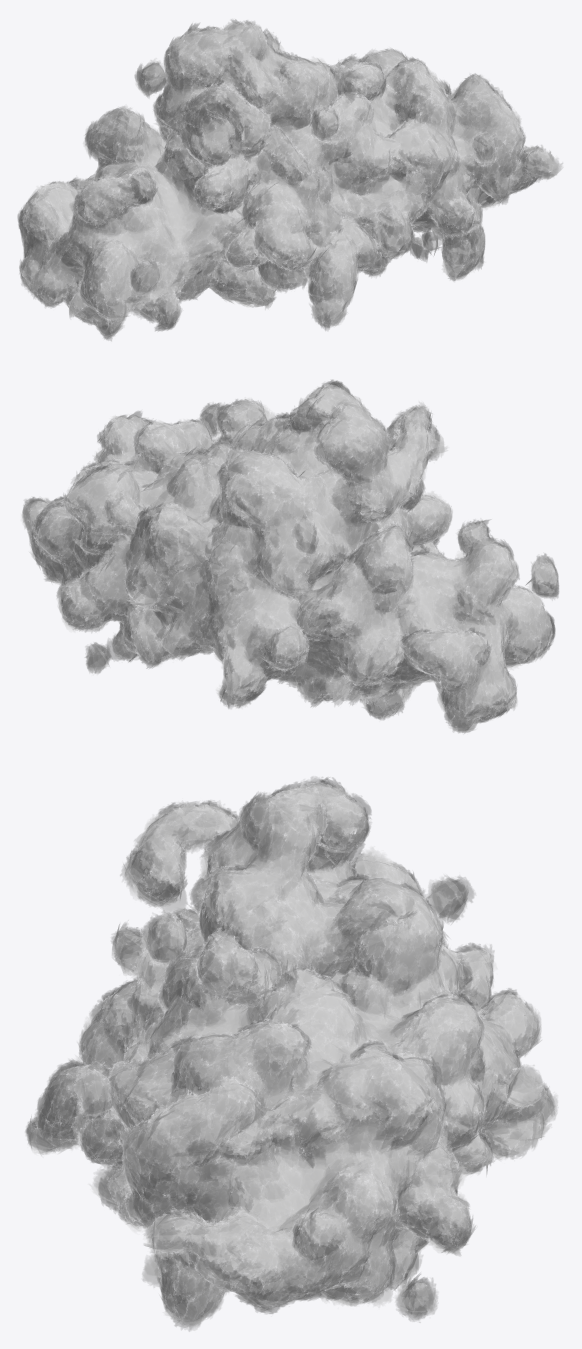
File: cloud.glb
3 renders of one model, top to bottom at view 1: azimuth 30°, elevation 25°; view 2: azimuth 150°, elevation 25°; view 3: azimuth 270°, elevation 25°, orthographic. The views are drawn at different scales.
Visible parts, largest first — view 1: Object_4; view 2: Object_4; view 3: Object_4.
Part boxes in pixels (x1,y1,x2,y2): Object_4: [17, 19, 562, 340]; Object_4: [21, 379, 558, 733]; Object_4: [25, 776, 557, 1331].
Bounding box in the file's own units: 11.15 × 6.39 × 7.58.
1 material, 1 textured.
